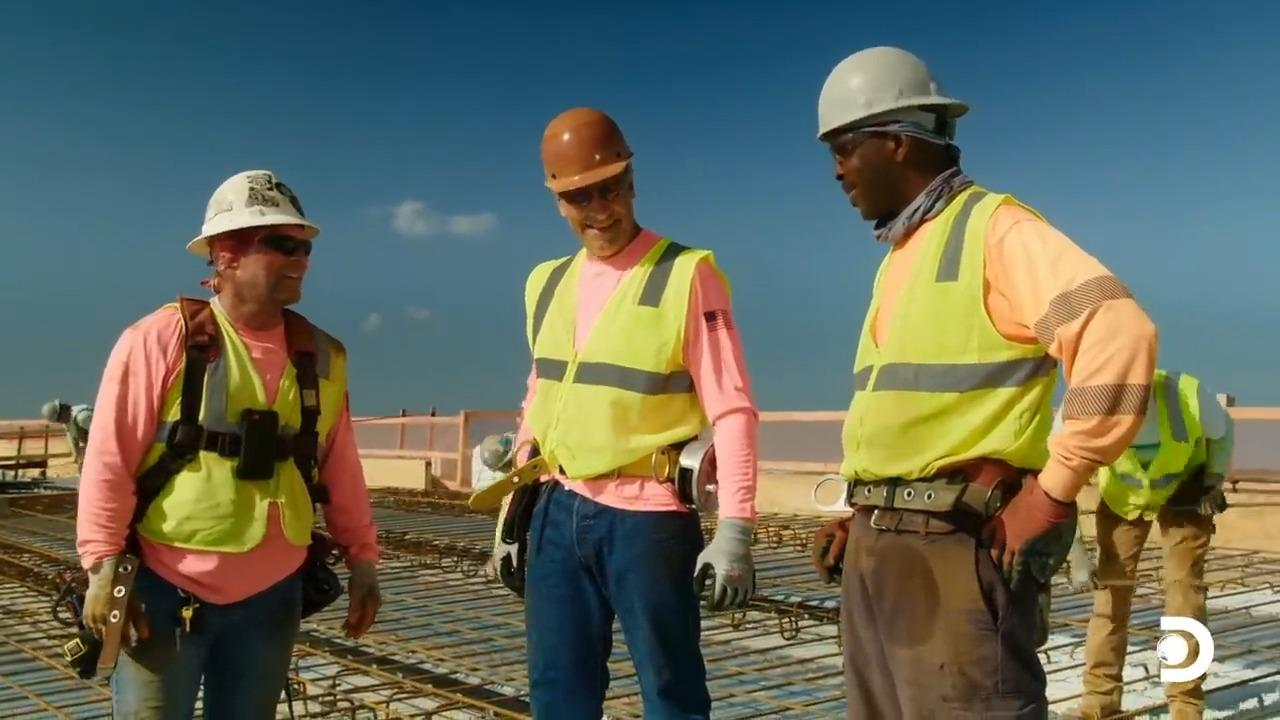Gloves: (684, 520, 765, 616), (983, 501, 1076, 582), (80, 567, 150, 649), (336, 558, 386, 634), (491, 508, 536, 587), (809, 519, 861, 586)
Helmet: (816, 45, 969, 143), (185, 168, 320, 257), (540, 106, 633, 193)
Person: (811, 44, 1159, 719), (74, 168, 382, 719), (507, 105, 760, 719), (1065, 366, 1235, 719)
Safety Vest: (139, 317, 326, 538), (872, 256, 1053, 457), (533, 270, 689, 467), (1102, 398, 1198, 506)
